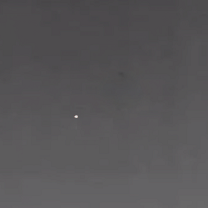Target: (73, 115, 80, 119)
